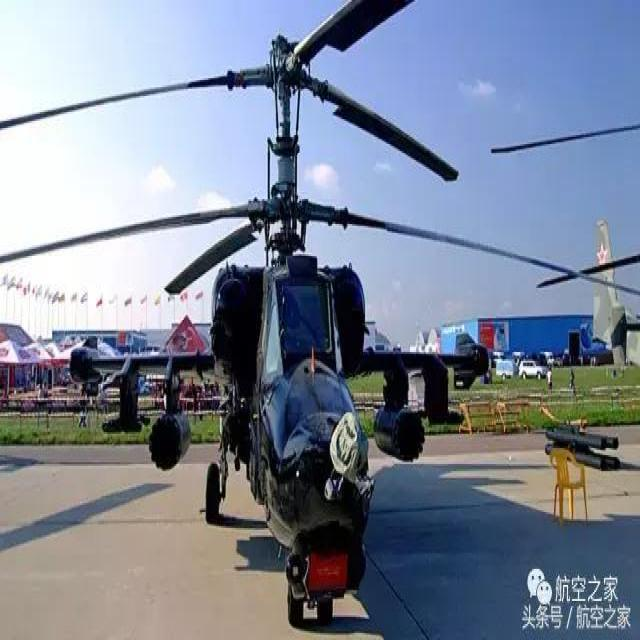MIL_HELO: (0, 2, 556, 626)
